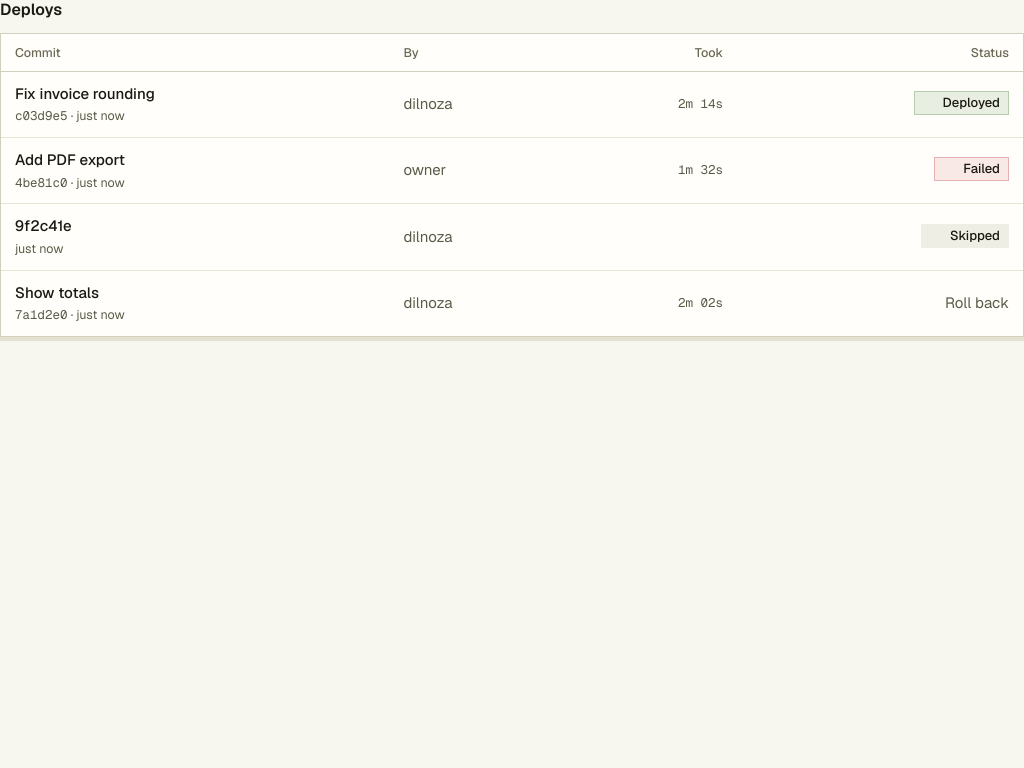
Test: Events › drops a rollback's error with the dialog
Click the button "Roll back" at (977, 303), box [945,292,1009,314]
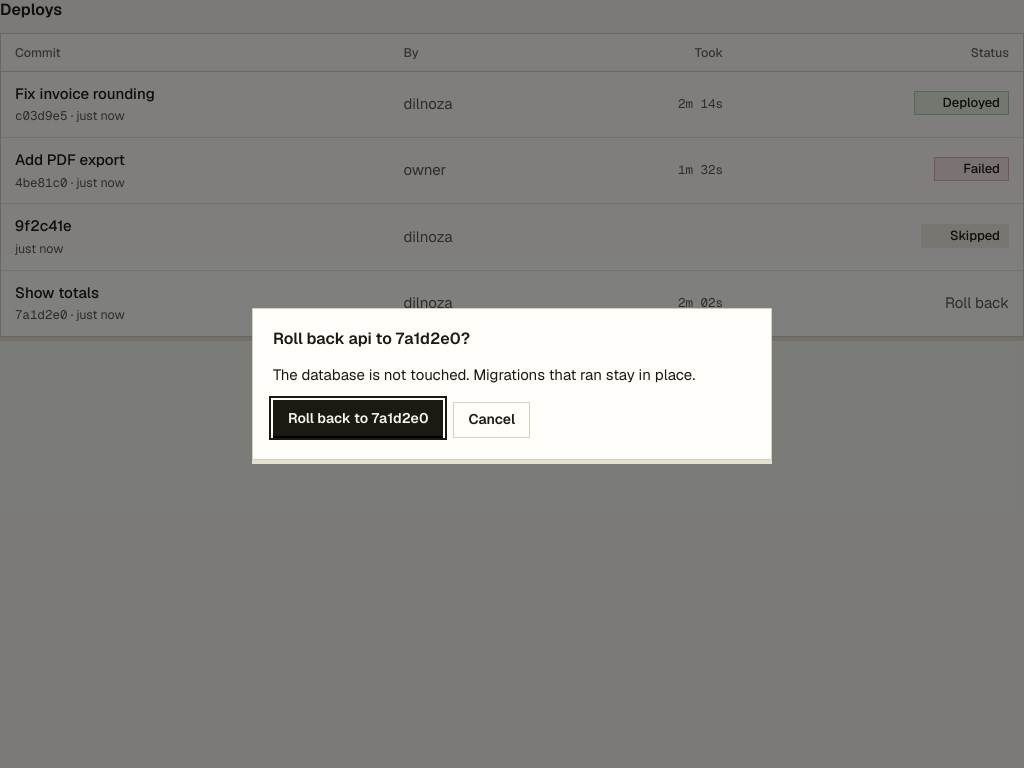
Click the button "Roll back to 7a1d2e0" at (358, 418), box [273,400,444,436]
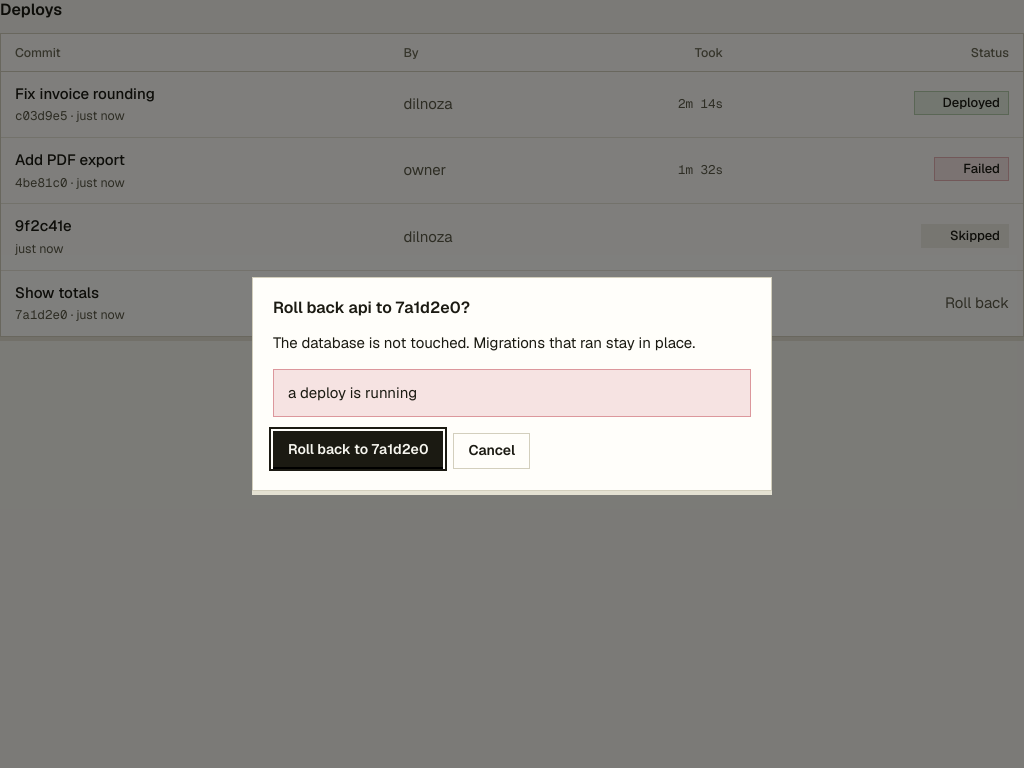
Check: the text "a deploy is running" is shown, box [288,383,417,402]
Click the button "Cancel" at (492, 451), box [454,433,530,469]
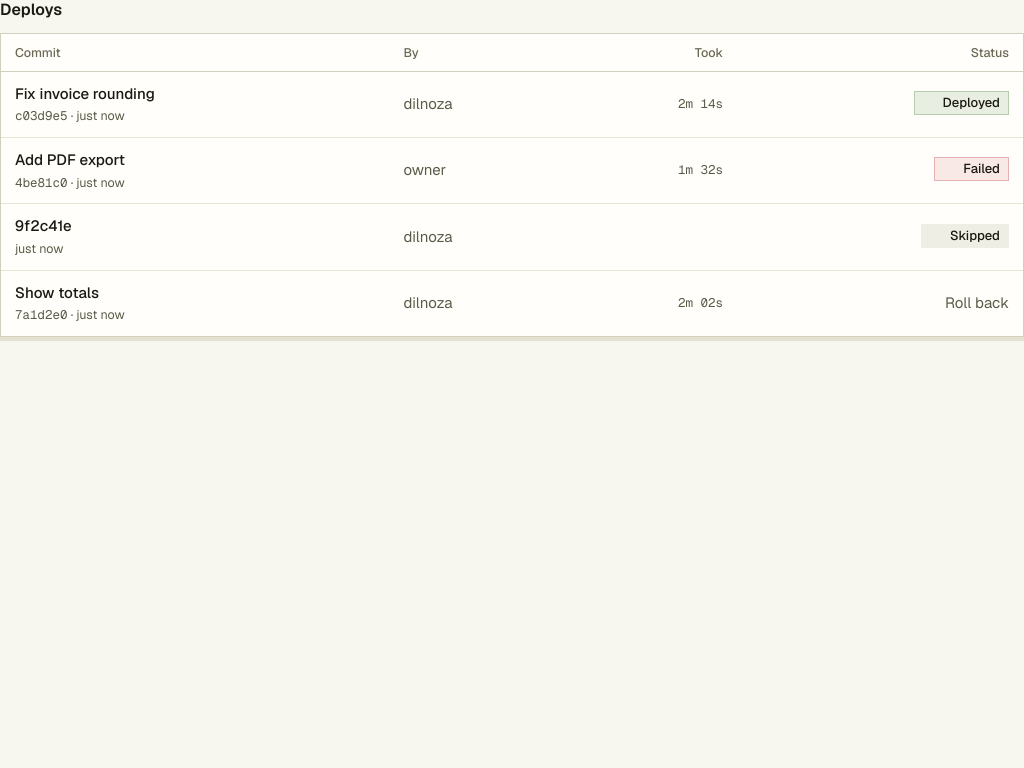
Check: the text "a deploy is running" is gone
